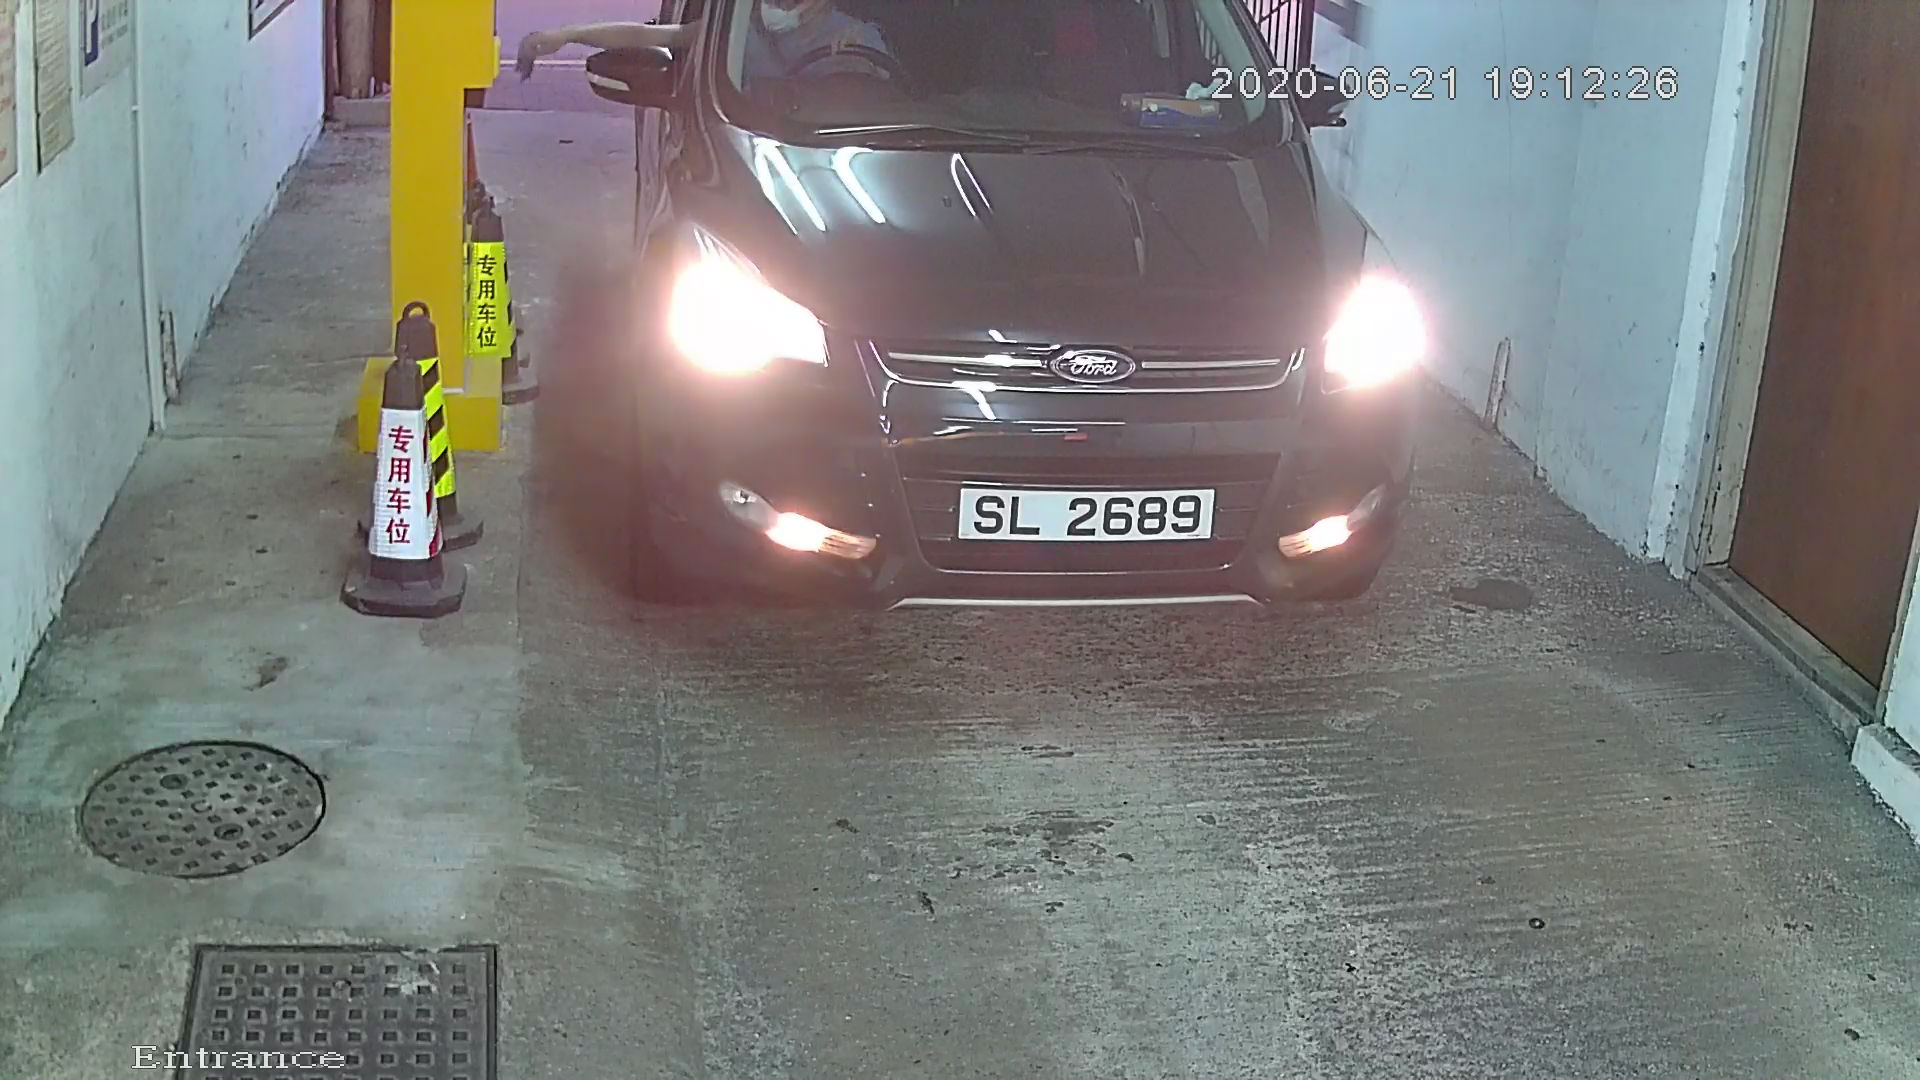privatecar: (530, 3, 1462, 684)
